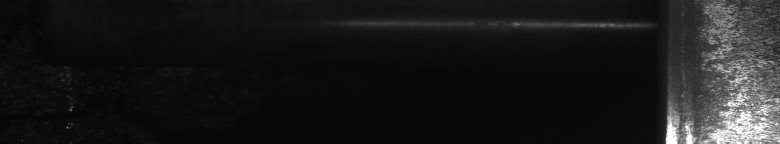kb: (680, 4, 776, 136)
